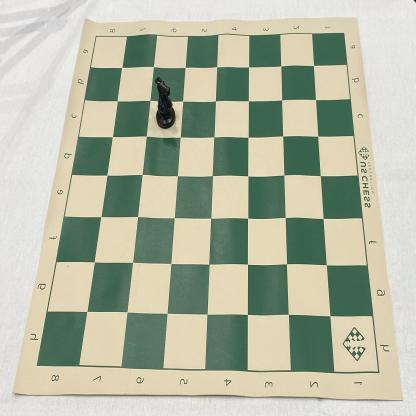black-knight: (154, 76, 176, 130)
